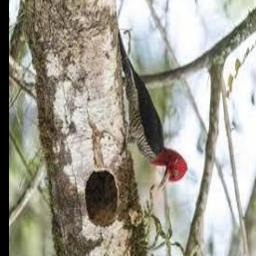Woodpecker: (118, 30, 187, 195)
